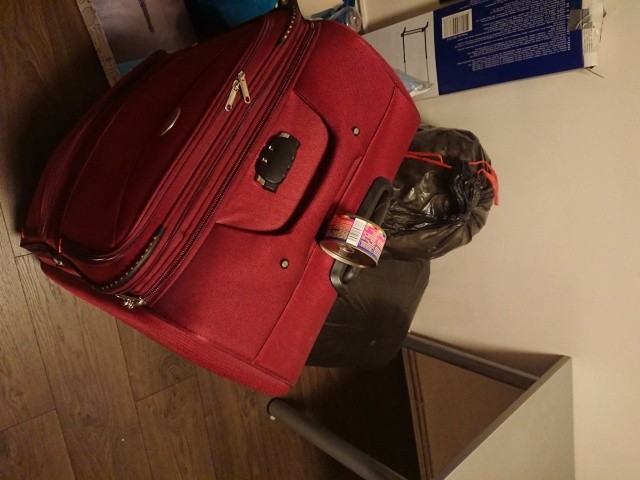Giana Tuna Salad Mexico 185g: (316, 207, 388, 272)
